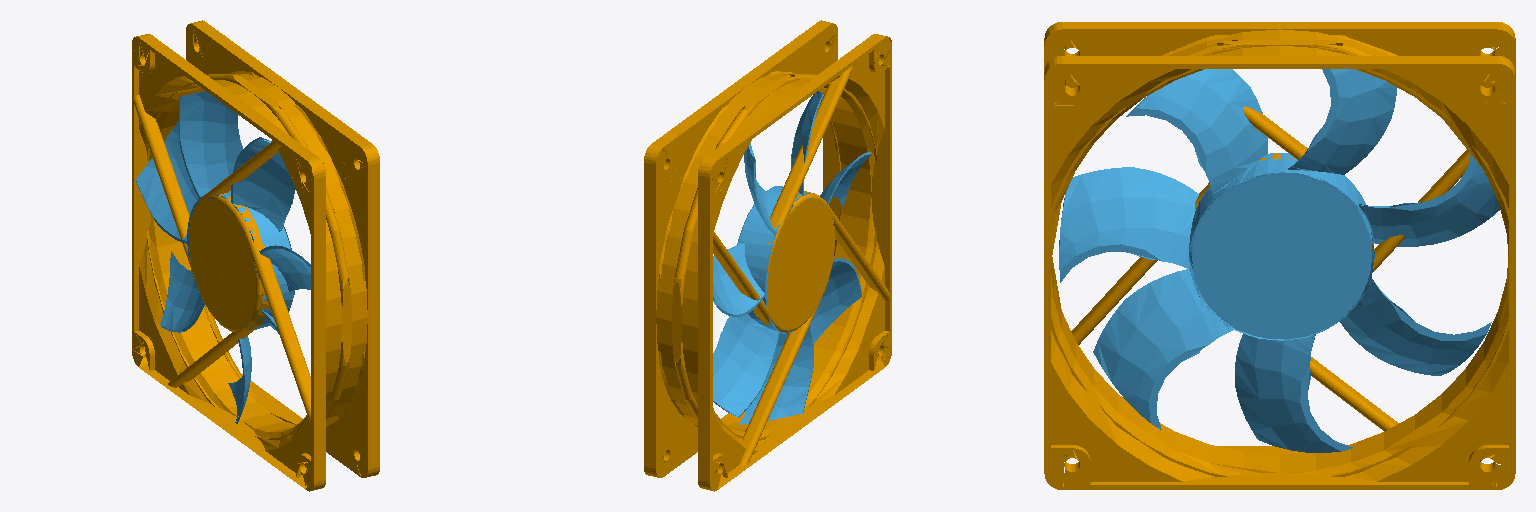
The robot description file, URDF, robot "predicted_fan_collision":
<?xml version="1.0"?>
<robot name="predicted_fan_collision">
  <link name="base_link">
    <visual>
      <geometry>
        <mesh filename="meshes/part_01.stl"/>
      </geometry>
    </visual>
  </link>
  <link name="link_user_sketch_1779216468179_J0">
    <visual>
      <origin xyz="0.0373 -0.0004 0.0017" rpy="0 0 0"/>
      <geometry>
        <mesh filename="meshes/part_00.stl"/>
      </geometry>
    </visual>
  </link>
  <joint name="joint_user_sketch_1779216468179_J0" type="continuous">
    <parent link="base_link"/>
    <child link="link_user_sketch_1779216468179_J0"/>
    <origin xyz="-0.0373 0.0004 -0.0017" rpy="0 0 0"/>
    <axis xyz="1.0000 0.0000 0.0000"/>
  </joint>
</robot>

--- Facts derived from the render (not from the file) ---
The picture shows the robot from 3 angles, left to right: view 1: azimuth 30°, elevation 25°; view 2: azimuth 150°, elevation 25°; view 3: azimuth 270°, elevation 25°; orthographic projection.
Model predicted_fan_collision with 2 links and 1 joints (1 continuous), rooted at base_link, posed all joints at 0.
Visible links, largest first — view 1: base_link, link_user_sketch_1779216468179_J0; view 2: base_link, link_user_sketch_1779216468179_J0; view 3: base_link, link_user_sketch_1779216468179_J0.
Link boxes in pixels (bbox=[...]): base_link: bbox=[132, 20, 379, 491]; link_user_sketch_1779216468179_J0: bbox=[136, 91, 310, 423]; base_link: bbox=[644, 20, 891, 491]; link_user_sketch_1779216468179_J0: bbox=[713, 91, 871, 424]; base_link: bbox=[1044, 22, 1515, 489]; link_user_sketch_1779216468179_J0: bbox=[1059, 69, 1499, 452].
Bounding box of the posed robot: 0.2177 × 1 × 1 m (x, y, z).
Meshes: 2 distinct files referenced, 2 mesh visuals loaded (2 binary STL).
